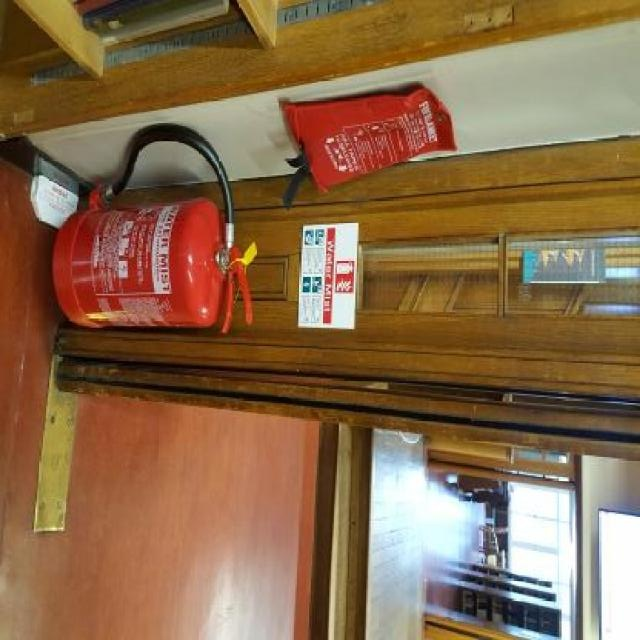fire extinguisher: (52, 121, 254, 337)
